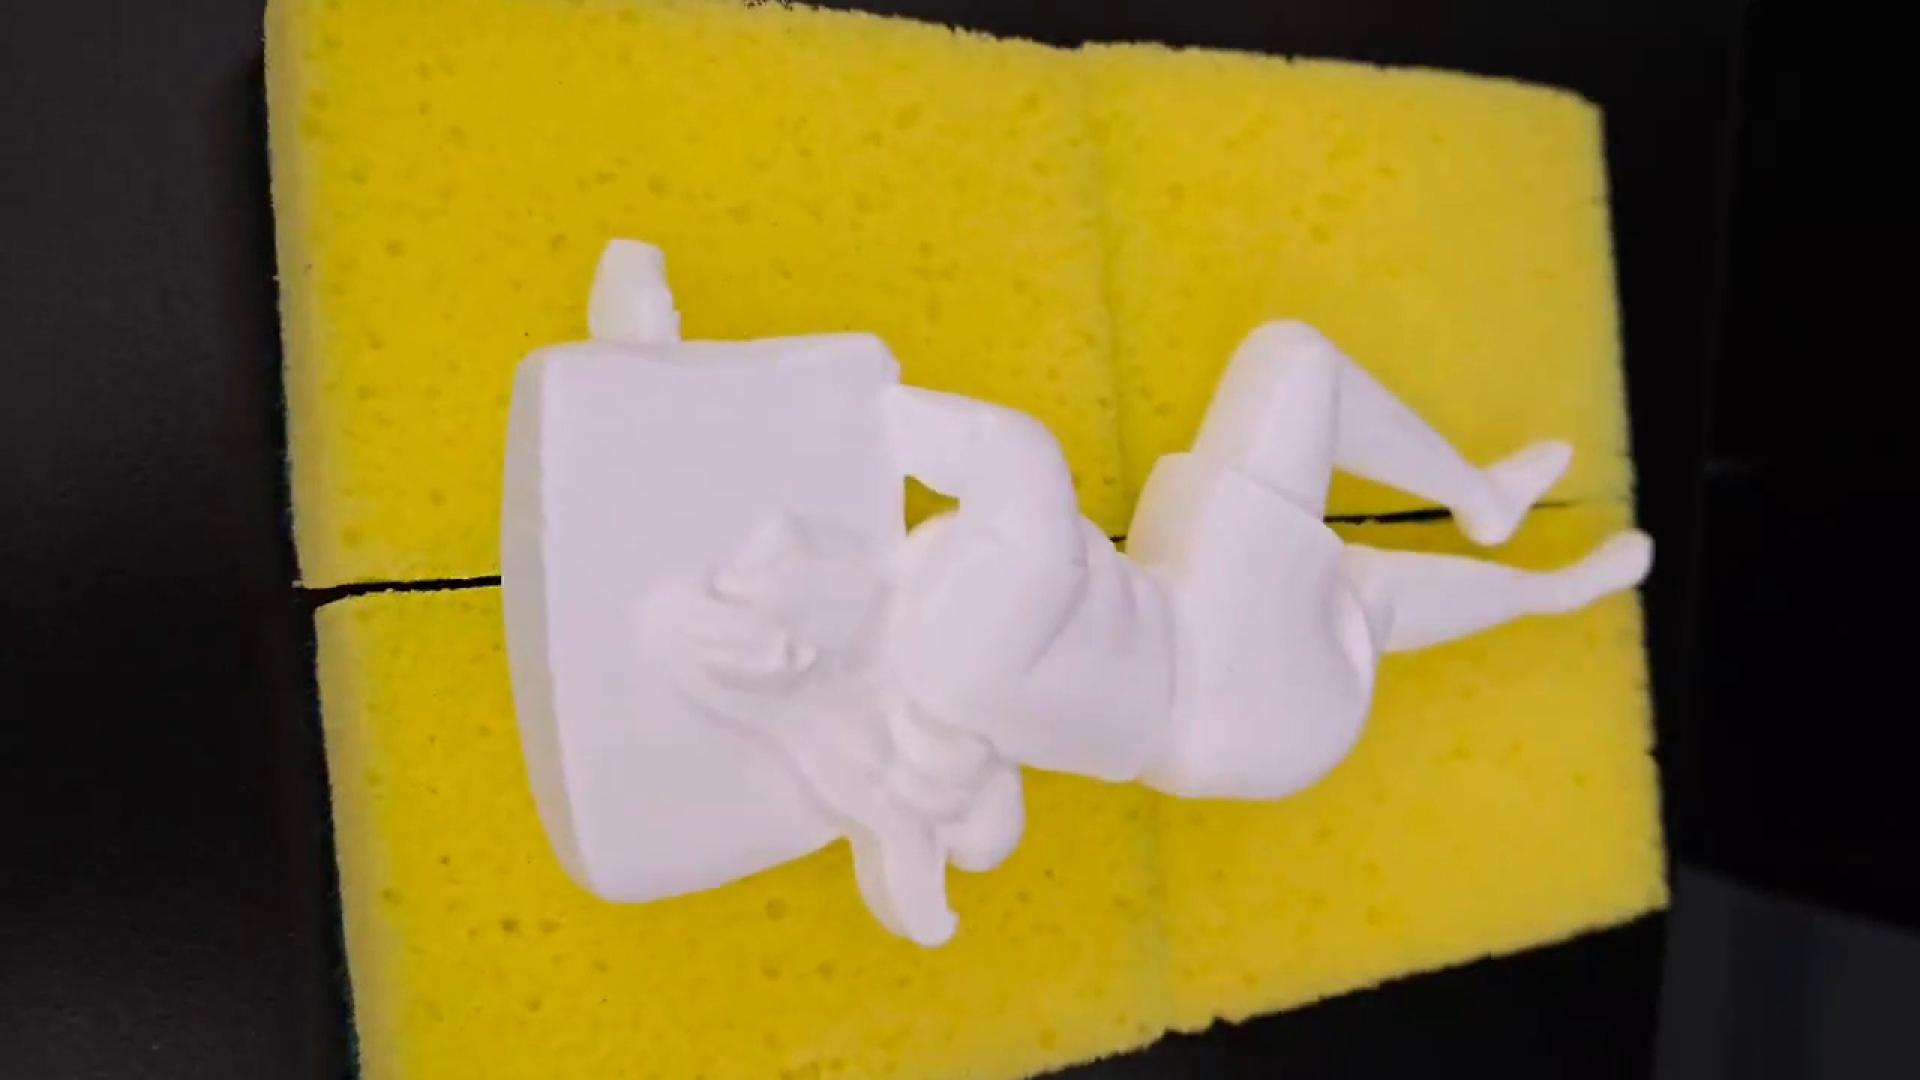Good-style: (504, 235, 1664, 948)
